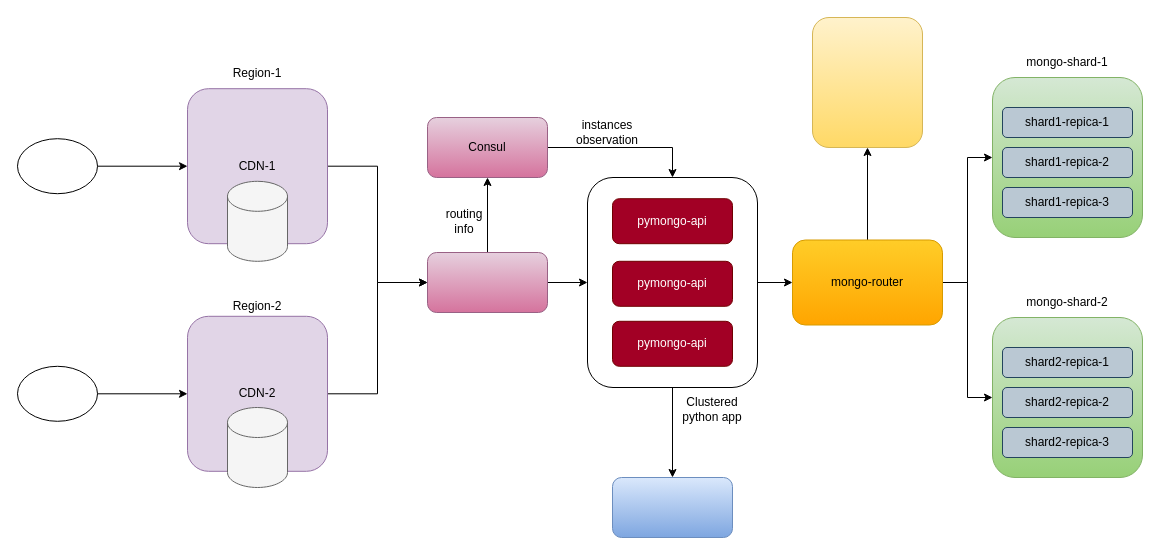
This 1160x555 diagram has some shape labels left out. Here are the shapes that lost their labels. From the top down, the centre of each, then its label:
At point (867, 82): "config server configSrv".
At point (57, 166): "client-1".
At point (257, 220): "static content cache-1".
At point (487, 282): "APISIX Gateway".
At point (57, 393): "client-2".
At point (257, 447): "static content cache-2".
At point (672, 507): "redis".
